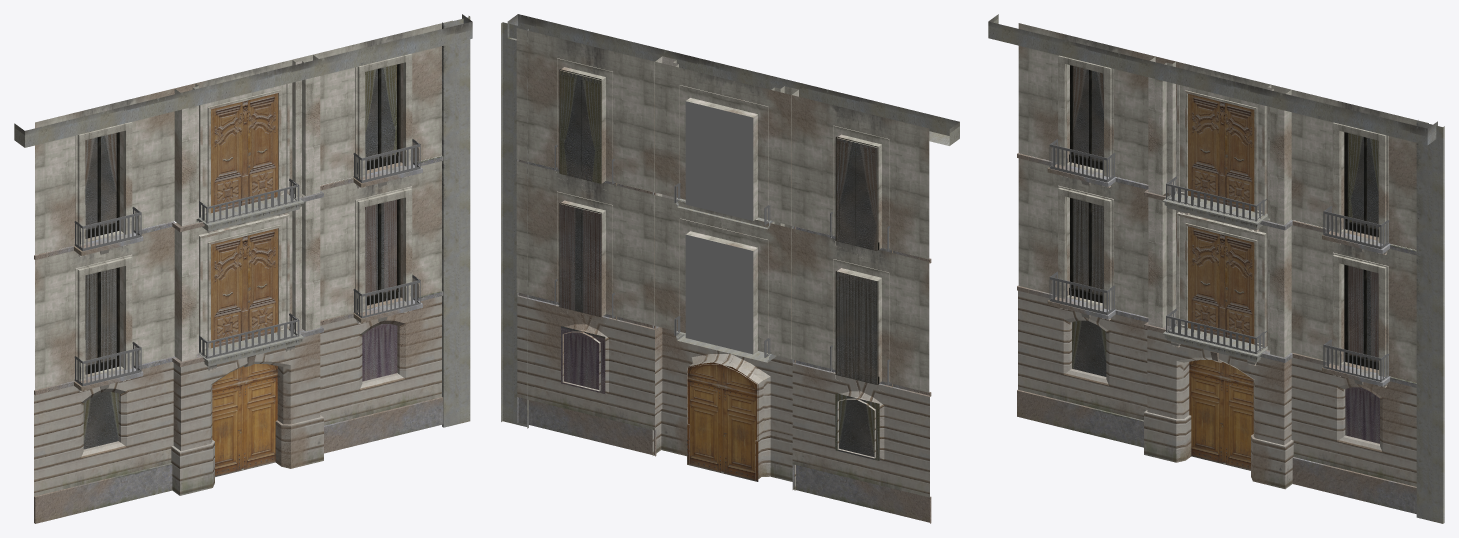
Rendered from ParisBuilding03.fbx.
3 renders of one model, left to right at view 1: azimuth 30°, elevation 25°; view 2: azimuth 150°, elevation 25°; view 3: azimuth 330°, elevation 25°, orthographic.
Visible parts, largest first — view 1: polySurface515, polySurface530, polySurface546, polySurface550, polySurface548, pCube55, polySurface553, polySurface637, polySurface635, polySurface636, polySurface513, polySurface510 (+30 smaller); view 2: polySurface530, polySurface515, polySurface546, polySurface550, polySurface548, polySurface636, polySurface524, polySurface481, pCube55, polySurface553, polySurface522, polySurface596 (+7 smaller); view 3: polySurface515, polySurface530, polySurface546, polySurface550, polySurface548, pCube55, polySurface553, polySurface637, polySurface635, polySurface636, polySurface510, polySurface514 (+30 smaller).
Part boxes in pixels (x1,y1,x2,y2): polySurface515: [35, 161, 441, 389]; polySurface530: [35, 20, 452, 254]; polySurface546: [34, 356, 173, 523]; polySurface550: [320, 291, 443, 453]; polySurface548: [171, 326, 323, 495]; pCube55: [442, 16, 470, 427]; polySurface553: [14, 14, 472, 147]; polySurface637: [211, 93, 278, 213]; polySurface635: [211, 228, 278, 348]; polySurface636: [212, 364, 277, 477]; polySurface513: [292, 196, 320, 331]; polySurface510: [199, 214, 289, 351]; polySurface530: [516, 28, 929, 259]; polySurface515: [516, 161, 929, 392]; polySurface546: [792, 359, 931, 523]; polySurface550: [517, 292, 656, 456]; polySurface548: [652, 325, 795, 490]; polySurface636: [687, 362, 758, 481]; polySurface524: [685, 101, 753, 220]; polySurface481: [685, 234, 753, 354]; pCube55: [501, 22, 528, 428]; polySurface553: [507, 14, 959, 145]; polySurface522: [559, 70, 601, 183]; polySurface596: [559, 204, 601, 317]; polySurface515: [1018, 158, 1416, 382]; polySurface530: [1018, 23, 1428, 250]; polySurface546: [1017, 285, 1148, 447]; polySurface550: [1291, 352, 1416, 513]; polySurface548: [1144, 322, 1293, 489]; pCube55: [1416, 120, 1444, 523]; polySurface553: [988, 14, 1437, 145]; polySurface637: [1188, 94, 1254, 211]; polySurface635: [1188, 226, 1254, 344]; polySurface636: [1189, 359, 1253, 470]; polySurface510: [1177, 212, 1266, 346]; polySurface514: [1148, 192, 1175, 327].
Size of the model in its own units: 1094 by 938 by 76.37.
